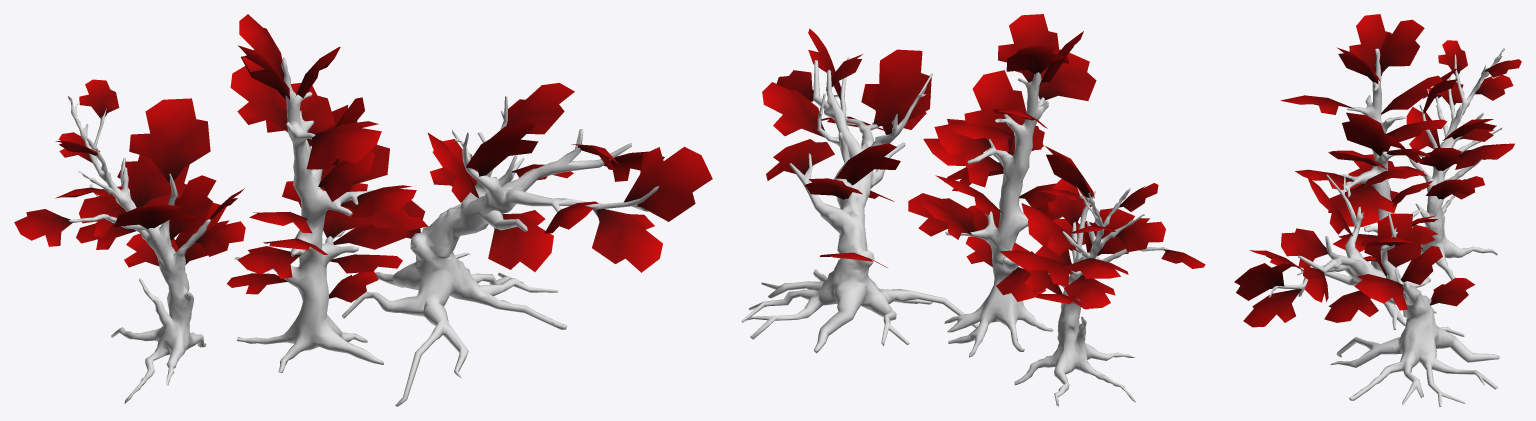
Rendered from trees1.glb.
3 views of the same model, side by side, from view 1: azimuth 30°, elevation 25°; view 2: azimuth 150°, elevation 25°; view 3: azimuth 270°, elevation 25° (orthographic). The views are drawn at different scales.
Parts seen in each view (by area): view 1: branches, branches_2, branches_3, tree2, tree1, tree3; view 2: branches, tree2, branches_2, branches_3, tree1, tree3; view 3: branches, branches_2, tree2, branches_3, tree3, tree1.
Boxes of the visible parts, x1,y1,x2,y2 form: branches: (227,14,428,302); branches_2: (400,82,712,272); branches_3: (14,79,245,267); tree2: (342,96,659,406); tree1: (235,58,400,372); tree3: (68,96,210,403); branches: (908,14,1096,301); tree2: (741,56,978,353); branches_2: (762,28,931,267); branches_3: (999,146,1205,309); tree1: (944,72,1053,357); tree3: (1014,187,1167,406); branches: (1280,14,1447,261); branches_2: (1234,176,1474,327); tree2: (1269,174,1499,406); branches_3: (1395,40,1521,199); tree3: (1408,47,1504,280); tree1: (1339,48,1436,329).
Size of the model in its own units: 15.62 by 10.16 by 8.98.
